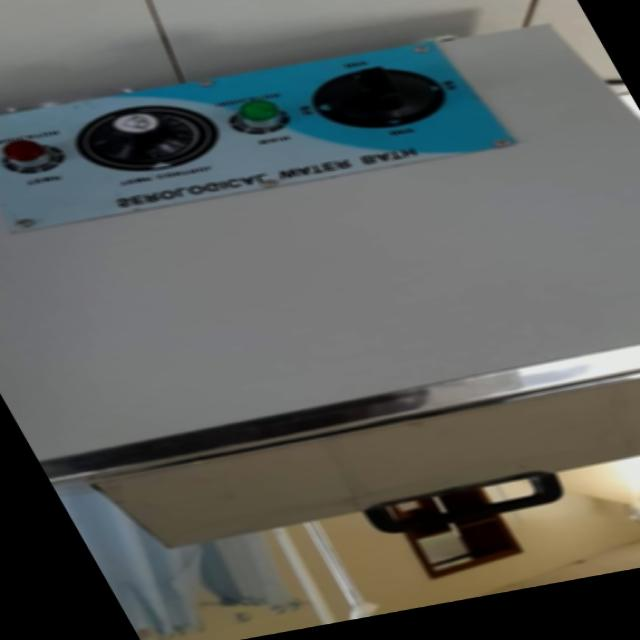Water-Oil Bath: (0, 0, 640, 559)
